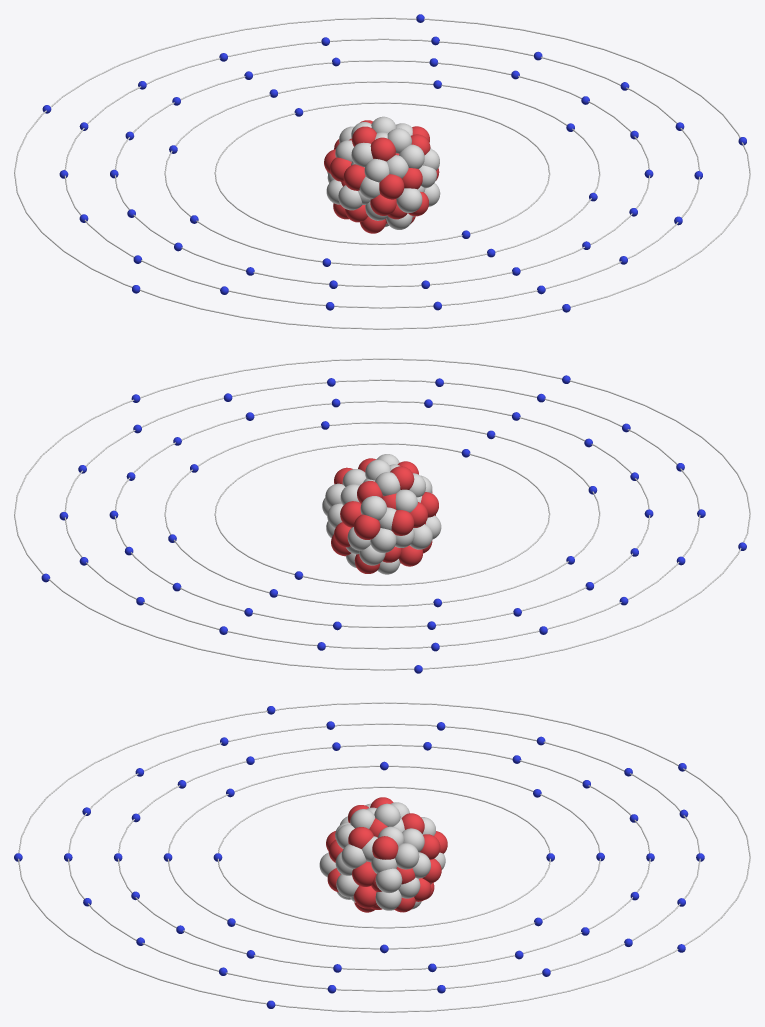
File: Antimon.glb
3 views of the same model, one above another, from view 1: azimuth 30°, elevation 25°; view 2: azimuth 150°, elevation 25°; view 3: azimuth 270°, elevation 25° (orthographic).
Parts seen in each view (by area): view 1: O-Schale, N-Schale, M-Schale, L-Schale, K-Schale; view 2: O-Schale, N-Schale, M-Schale, L-Schale, K-Schale, Proton 47; view 3: O-Schale, N-Schale, M-Schale, L-Schale, K-Schale, Neutron 62, Proton 44, Neutron 59.
Part boxes in pixels (left/top/right/bottom): O-Schale: left=14, top=17, right=750, bottom=329; N-Schale: left=64, top=38, right=700, bottom=308; M-Schale: left=114, top=60, right=650, bottom=287; L-Schale: left=164, top=81, right=600, bottom=265; K-Schale: left=214, top=102, right=550, bottom=244; O-Schale: left=14, top=358, right=750, bottom=670; N-Schale: left=64, top=379, right=700, bottom=649; M-Schale: left=114, top=400, right=650, bottom=627; L-Schale: left=164, top=422, right=600, bottom=606; K-Schale: left=214, top=443, right=550, bottom=585; Proton 47: left=354, top=514, right=380, bottom=539; O-Schale: left=18, top=702, right=750, bottom=1012; N-Schale: left=68, top=723, right=700, bottom=991; M-Schale: left=117, top=744, right=650, bottom=970; L-Schale: left=167, top=765, right=600, bottom=949; K-Schale: left=217, top=786, right=550, bottom=928; Neutron 62: left=375, top=868, right=402, bottom=893; Proton 44: left=372, top=836, right=398, bottom=859; Neutron 59: left=395, top=843, right=419, bottom=869.
Bounding box in the file's own units: 22.04 × 3.45 × 22.15.
